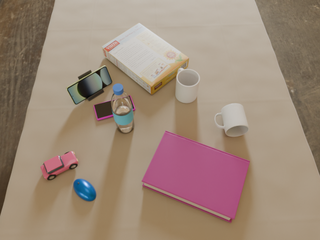book: (142, 131, 250, 223)
bottle: (111, 84, 134, 133)
box: (102, 23, 189, 94)
cup: (214, 104, 249, 137), (175, 68, 200, 103)
mouse: (73, 179, 96, 201)
phone: (66, 66, 112, 104), (94, 95, 135, 120)
toy_car: (41, 151, 78, 180)
